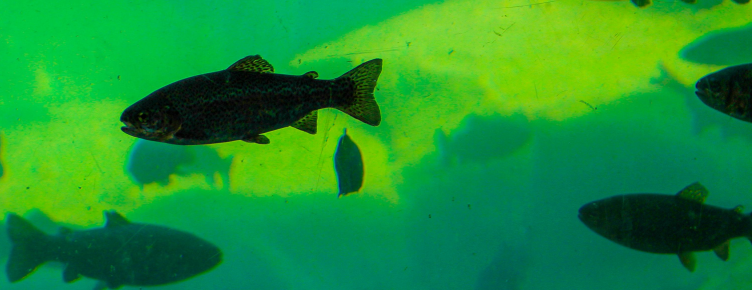fishLarge: (120, 53, 382, 146), (1, 211, 223, 289), (577, 183, 751, 273), (693, 61, 752, 124)
